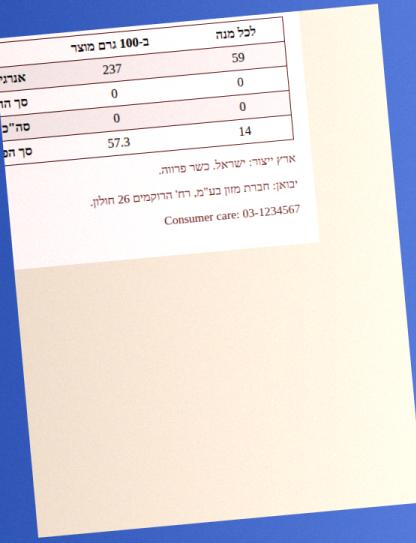carbs: (105, 133, 133, 152)
energy: (100, 60, 124, 78)
fat: (111, 109, 122, 127)
protein: (109, 85, 120, 102)
